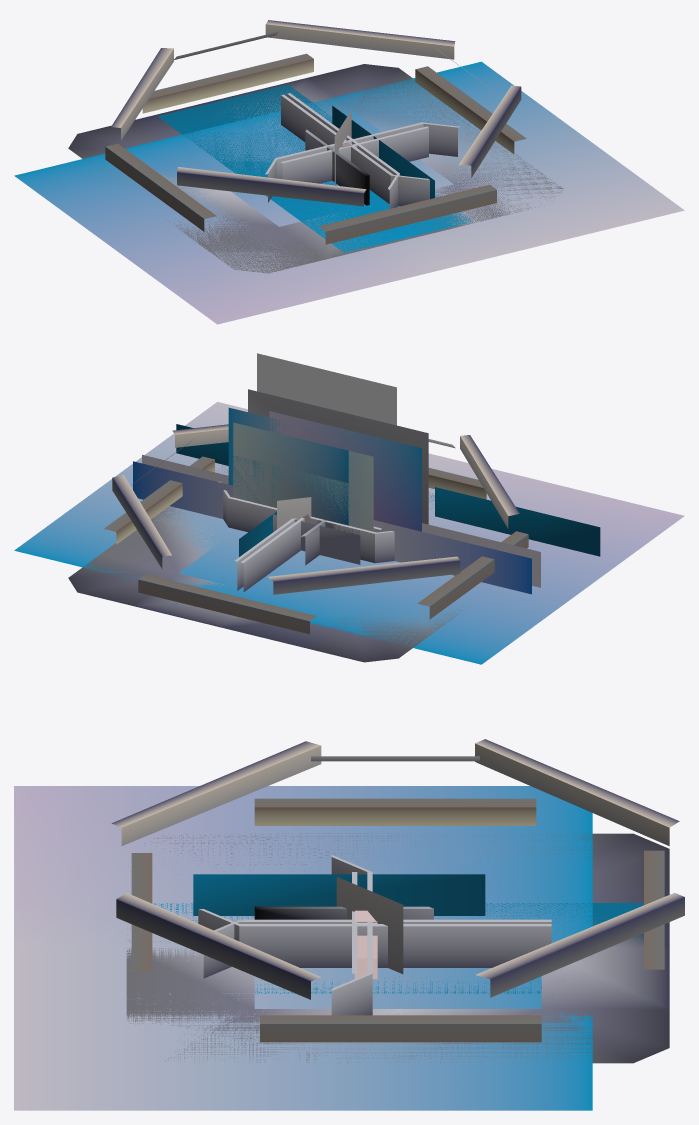
File: arena_king_of_the_ring.glb
The picture shows the model from 3 angles, top to bottom: view 1: azimuth 30°, elevation 25°; view 2: azimuth 150°, elevation 25°; view 3: azimuth 270°, elevation 25°; orthographic projection. The views are drawn at different scales.
Parts seen in each view (by area): view 1: 0x59c_Arena_King_of_the_Ring_Barricades, 0x55b_Arena_Normal_Match_Outside_Floormats_Four_Corner_Secti, 0x55d_Arena_Normal_Match_Ring_Mat_Polygon, 0x55e_Arena_Scaffolding_Piece_1_Polygon, 0x59d_Arena_King_of_the_Ring_Stage_area_in_front_of_the_Entr, 0x55a_Arena_Back_Rafter_Sign_Polygon, 0x551_Arena_Right_Barricade_Lower_Side_Polygon, 0x54f_Arena_Right_Aisle_Barricade_Polygon, 0x54e_Arena_Left_Aisle_Barricade_Polygon, 0x59b_Arena_King_of_the_Ring_Curtain_behind_all_the_Logos_K_, 0x550_Arena_Back_Right_Barricade_Polygon, 0x553_Arena_Front_Barricade_Right_Side_Polygon (+3 smaller); view 2: 0x59c_Arena_King_of_the_Ring_Barricades, 0x5a4_Arena_King_of_the_Ring_Lower_Left_Side_of_the_Swords, 0x55d_Arena_Normal_Match_Ring_Mat_Polygon, 0x55b_Arena_Normal_Match_Outside_Floormats_Four_Corner_Secti, 0x55e_Arena_Scaffolding_Piece_1_Polygon, 0x59f_Arena_King_of_the_Ring_Back_Arced_Scaffolding, 0x5a6_Arena_King_of_the_Ring_O_Above_the_Entry_Way, 0x55a_Arena_Back_Rafter_Sign_Polygon, 0x59b_Arena_King_of_the_Ring_Curtain_behind_all_the_Logos_K_, 0x5a7_Arena_King_of_the_Ring_R_Right_of_the_Entry_Way, 0xaa8_Stage_RAW, 0x552_Arena_Right_Barricade_Upper_Side_Polygon (+11 smaller); view 3: 0x59c_Arena_King_of_the_Ring_Barricades, 0x55e_Arena_Scaffolding_Piece_1_Polygon, 0x55d_Arena_Normal_Match_Ring_Mat_Polygon, 0x55b_Arena_Normal_Match_Outside_Floormats_Four_Corner_Secti, 0x55a_Arena_Back_Rafter_Sign_Polygon, 0x59b_Arena_King_of_the_Ring_Curtain_behind_all_the_Logos_K_, 0x554_Arena_Front_Barricade_Left_Side_Polygon, 0x555_Arena_Left_Barricade_Lower_Side_Polygon, 0x559_Arena_Front_Rafter_Sign_Polygon, 0x59d_Arena_King_of_the_Ring_Stage_area_in_front_of_the_Entr, 0x54e_Arena_Left_Aisle_Barricade_Polygon, 0x553_Arena_Front_Barricade_Right_Side_Polygon (+5 smaller).
Part boxes in pixels (x1,y1,x2,y2): 0x59c_Arena_King_of_the_Ring_Barricades: (14,61,684,324); 0x55b_Arena_Normal_Match_Outside_Floormats_Four_Corner_Secti: (107,77,531,259); 0x55d_Arena_Normal_Match_Ring_Mat_Polygon: (105,53,526,244); 0x55e_Arena_Scaffolding_Piece_1_Polygon: (111,20,521,206); 0x59d_Arena_King_of_the_Ring_Stage_area_in_front_of_the_Entr: (157,84,472,252); 0x55a_Arena_Back_Rafter_Sign_Polygon: (68,64,563,273); 0x551_Arena_Right_Barricade_Lower_Side_Polygon: (281,94,429,206); 0x54f_Arena_Right_Aisle_Barricade_Polygon: (281,138,379,183); 0x54e_Arena_Left_Aisle_Barricade_Polygon: (305,129,369,205); 0x59b_Arena_King_of_the_Ring_Curtain_behind_all_the_Logos_K_: (332,106,434,198); 0x550_Arena_Back_Right_Barricade_Polygon: (304,112,388,203); 0x553_Arena_Front_Barricade_Right_Side_Polygon: (331,122,460,156); 0x59c_Arena_King_of_the_Ring_Barricades: (14,402,684,664); 0x5a4_Arena_King_of_the_Ring_Lower_Left_Side_of_the_Swords: (233,422,348,525); 0x55d_Arena_Normal_Match_Ring_Mat_Polygon: (104,456,528,634); 0x55b_Arena_Normal_Match_Outside_Floormats_Four_Corner_Secti: (101,492,468,648); 0x55e_Arena_Scaffolding_Piece_1_Polygon: (112,424,519,594); 0x59f_Arena_King_of_the_Ring_Back_Arced_Scaffolding: (133,461,531,594); 0x5a6_Arena_King_of_the_Ring_O_Above_the_Entry_Way: (269,411,421,531); 0x55a_Arena_Back_Rafter_Sign_Polygon: (68,465,430,662); 0x59b_Arena_King_of_the_Ring_Curtain_behind_all_the_Logos_K_: (176,424,600,556); 0x5a7_Arena_King_of_the_Ring_R_Right_of_the_Entry_Way: (263,355,396,425); 0xaa8_Stage_RAW: (248,389,428,524); 0x552_Arena_Right_Barricade_Upper_Side_Polygon: (231,497,394,563); 0x59c_Arena_King_of_the_Ring_Barricades: (14,786,592,1110); 0x55e_Arena_Scaffolding_Piece_1_Polygon: (111,739,684,999); 0x55d_Arena_Normal_Match_Ring_Mat_Polygon: (131,798,664,1042); 0x55b_Arena_Normal_Match_Outside_Floormats_Four_Corner_Secti: (126,833,669,1063); 0x55a_Arena_Back_Rafter_Sign_Polygon: (126,833,669,1063); 0x59b_Arena_King_of_the_Ring_Curtain_behind_all_the_Logos_K_: (193,874,485,915); 0x554_Arena_Front_Barricade_Left_Side_Polygon: (244,924,485,967); 0x555_Arena_Left_Barricade_Lower_Side_Polygon: (198,909,551,967); 0x559_Arena_Front_Rafter_Sign_Polygon: (336,877,403,973); 0x59d_Arena_King_of_the_Ring_Stage_area_in_front_of_the_Entr: (153,903,661,993); 0x54e_Arena_Left_Aisle_Barricade_Polygon: (254,906,433,919); 0x553_Arena_Front_Barricade_Right_Side_Polygon: (331,874,372,1015).
Bounding box in the file's own units: 10.5 × 4.69 × 9.17.
